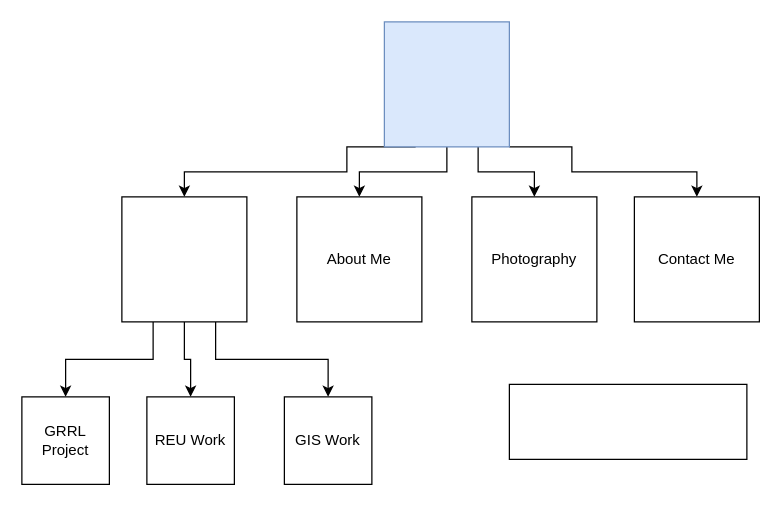
This 781x506 diagram has some shape labels left out. Each missing label, with the centre of its shape:
"(Navbar allows access to the main 5 pages at any time)" belongs at (x=627, y=421).
"Index" belongs at (x=446, y=84).
"Past Work" belongs at (x=184, y=259).
